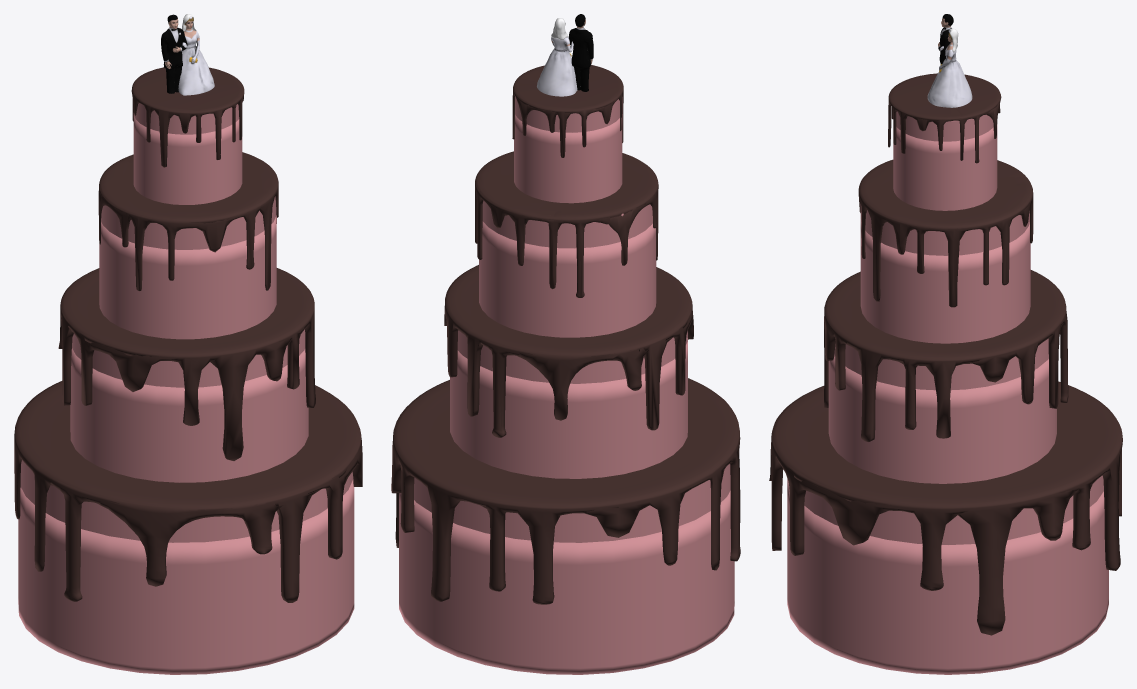
File: 4-tier-blush-ganache-bridegroom.glb
3 views of the same model, side by side, from view 1: azimuth 30°, elevation 25°; view 2: azimuth 150°, elevation 25°; view 3: azimuth 270°, elevation 25° (orthographic).
Parts seen in each view (by area): view 1: 3.001, tHE ICING.008, 3, 2, tHE ICING.007, tHE ICING.006, 1, tHE ICING.009, 13501_Cake_Topper_Bride_Groom_v1_L1.001; view 2: 3.001, tHE ICING.008, 3, 2, tHE ICING.007, tHE ICING.006, 1, tHE ICING.009, 13501_Cake_Topper_Bride_Groom_v1_L1.001; view 3: 3.001, tHE ICING.008, 3, 2, tHE ICING.007, tHE ICING.006, 1, tHE ICING.009, 13501_Cake_Topper_Bride_Groom_v1_L1.001.
Part boxes in pixels (box(x1,y1,x2,y2)): 3.001: box(18, 460, 354, 674); tHE ICING.008: box(14, 381, 362, 602); 3: box(70, 329, 308, 482); 2: box(99, 196, 276, 339); tHE ICING.007: box(58, 268, 315, 460); tHE ICING.006: box(98, 152, 278, 291); 1: box(133, 103, 242, 204); tHE ICING.009: box(131, 67, 244, 167); 13501_Cake_Topper_Bride_Groom_v1_L1.001: box(161, 14, 214, 95); 3.001: box(399, 464, 734, 674); tHE ICING.008: box(391, 378, 740, 604); 3: box(450, 330, 687, 478); 2: box(479, 200, 656, 337); tHE ICING.007: box(444, 265, 693, 437); tHE ICING.006: box(475, 151, 658, 297); 1: box(514, 96, 622, 203); tHE ICING.009: box(512, 65, 623, 157); 13501_Cake_Topper_Bride_Groom_v1_L1.001: box(537, 14, 593, 96); 3.001: box(787, 475, 1108, 674); tHE ICING.008: box(769, 381, 1122, 635); 3: box(828, 338, 1056, 483); 2: box(860, 204, 1030, 343); tHE ICING.007: box(824, 270, 1068, 441); tHE ICING.006: box(858, 159, 1033, 307); 1: box(893, 111, 997, 210); tHE ICING.009: box(888, 73, 1001, 163); 13501_Cake_Topper_Bride_Groom_v1_L1.001: box(927, 14, 972, 107).
Size of the model in its own units: 4.52 by 8.54 by 4.69.
Materials: 3 (1 with a texture image).
